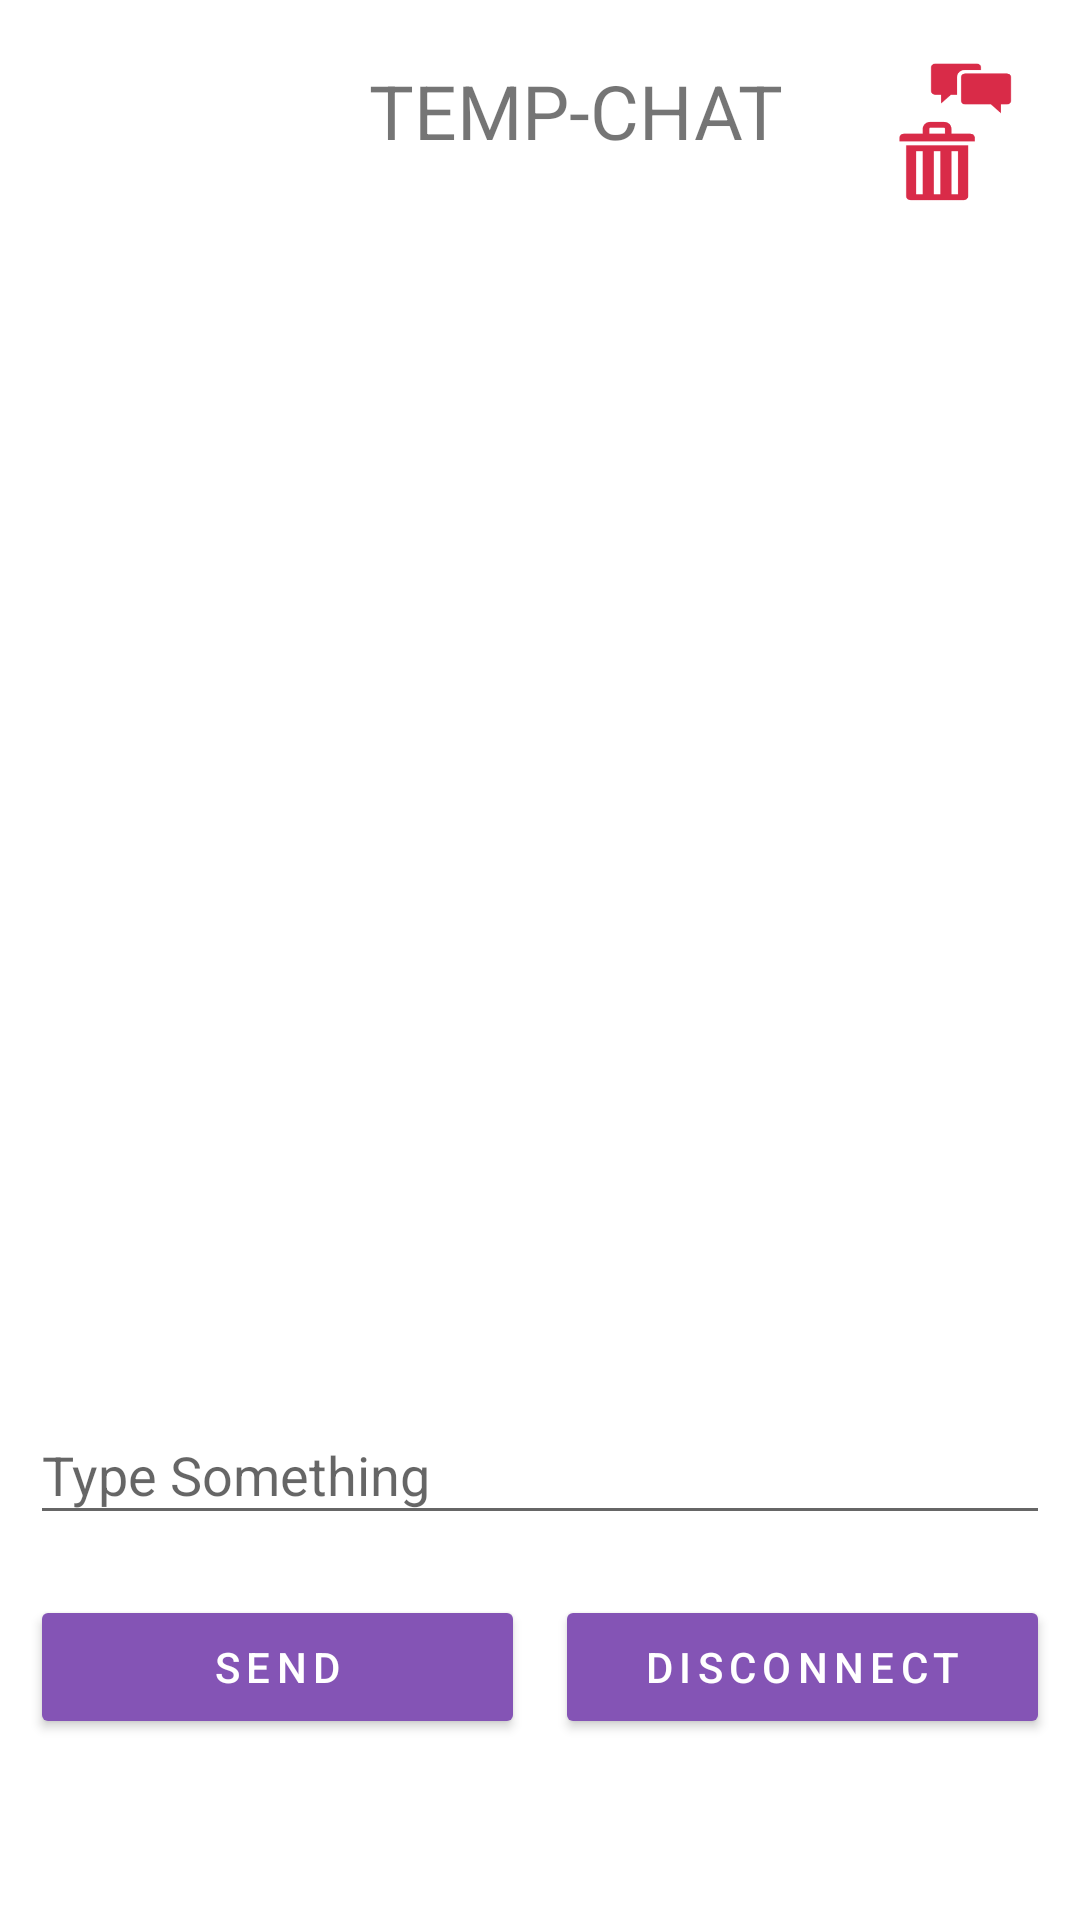

Named icons in this screenshot (1080*1920) and their bounding boxes, [x1, y1, x2, y2]:
delete all: [899, 63, 1011, 201]
